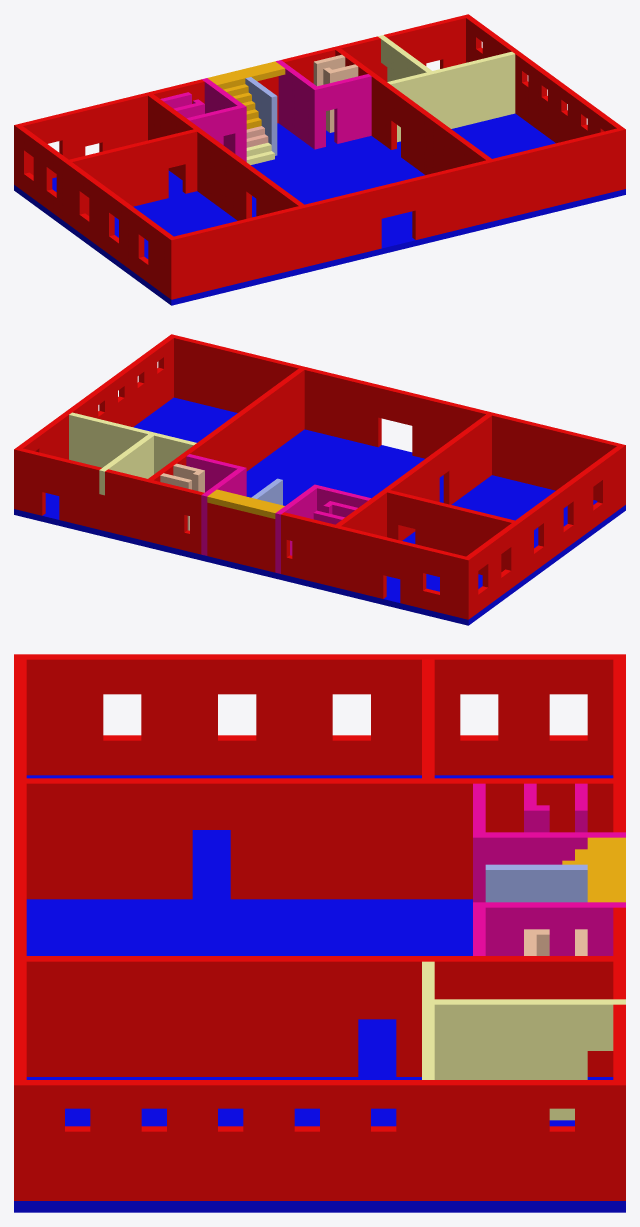
Rendered from convitto_multylayers.gltf.
3 views of the same model, one above another, from view 1: azimuth 30°, elevation 25°; view 2: azimuth 150°, elevation 25°; view 3: azimuth 270°, elevation 25° (orthographic). The views are drawn at different scales.
Visible parts, largest first — view 1: Layer.8, Layer.12, Layer.9, Layer.3, Layer.11, Layer.1, Layer.4, Layer.10, Layer.5, Layer.6, Layer.2; view 2: Layer.9, Layer.8, Layer.12, Layer.11, Layer.4, Layer.10, Layer.5, Layer.3, Layer.1, Layer.6, Layer.2; view 3: Layer.10, Layer.11, Layer.4, Layer.5, Layer.12, Layer.1, Layer.3, Layer.8, Layer.2, Layer.9, Layer.6.
Part boxes in pixels (x1,y1,x2,y2): Layer.8: (168,127,625,299); Layer.12: (14,113,625,305); Layer.9: (14,14,471,186); Layer.3: (160,54,371,161); Layer.11: (17,126,173,296); Layer.1: (378,35,515,142); Layer.4: (145,92,303,220); Layer.10: (466,16,621,143); Layer.5: (335,48,491,174); Layer.6: (69,129,197,215); Layer.2: (207,61,285,164); Layer.9: (14,447,471,619); Layer.8: (168,334,625,506); Layer.12: (14,397,625,625); Layer.11: (466,446,622,616); Layer.4: (332,414,491,587); Layer.10: (18,336,173,459); Layer.5: (148,368,304,481); Layer.3: (160,454,370,573); Layer.1: (69,412,196,495); Layer.6: (387,490,514,574); Layer.2: (207,478,284,518); Layer.10: (26,1080,613,1200); Layer.11: (26,654,613,775); Layer.4: (26,778,625,899); Layer.5: (26,956,613,1076); Layer.12: (14,775,625,1212); Layer.1: (422,961,625,1120); Layer.3: (473,783,625,955); Layer.8: (14,654,26,1200); Layer.2: (485,837,625,902); Layer.9: (613,654,625,1200); Layer.6: (422,659,434,778).
Bounding box in the file's own units: 80 × 11 × 48.
1 material, 1 textured.
